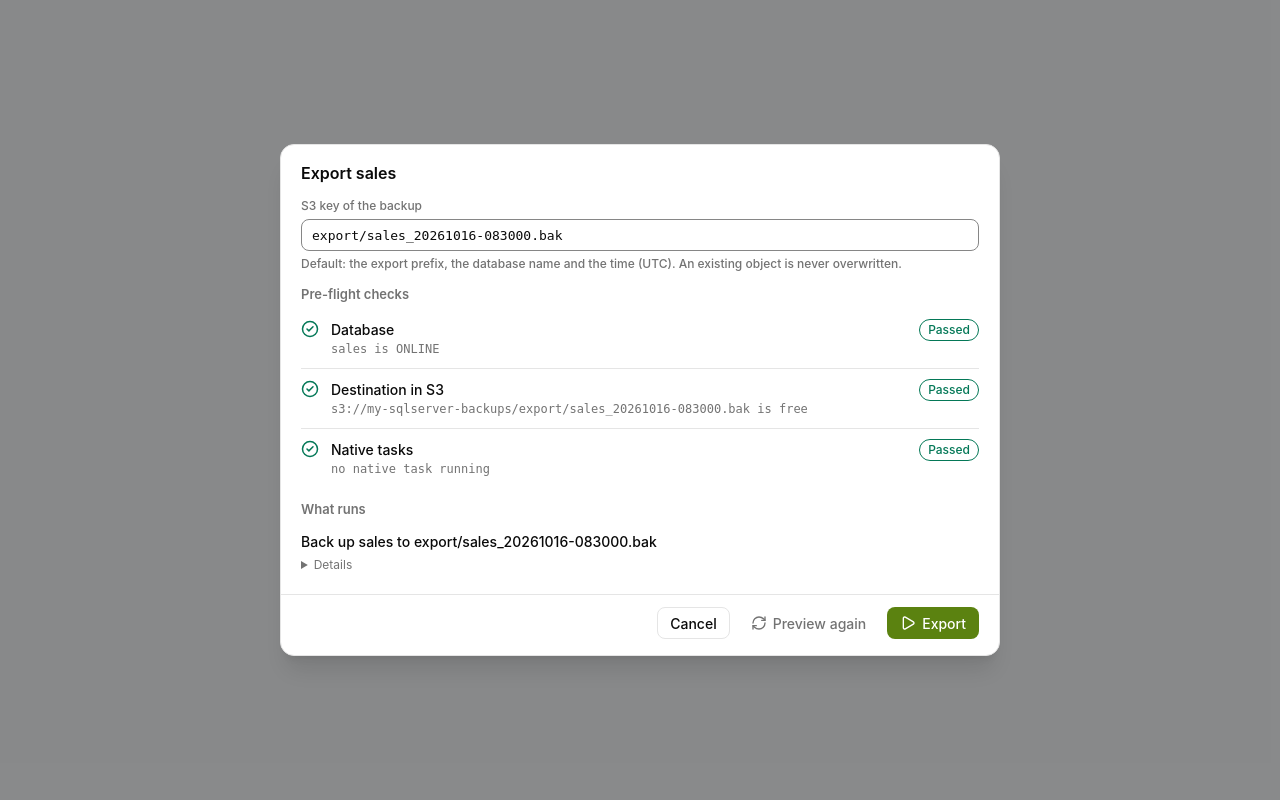
PlanDialog › shows the default export key and sends the previewed one
Check: the field labelled "S3 key of the backup" holds "export/sales_20261016-083000.bak", box [301, 219, 979, 251]
Check: the text "Destination in S3" is shown, box [331, 380, 444, 398]
Click the button "Export" at (933, 623), box [887, 607, 979, 639]
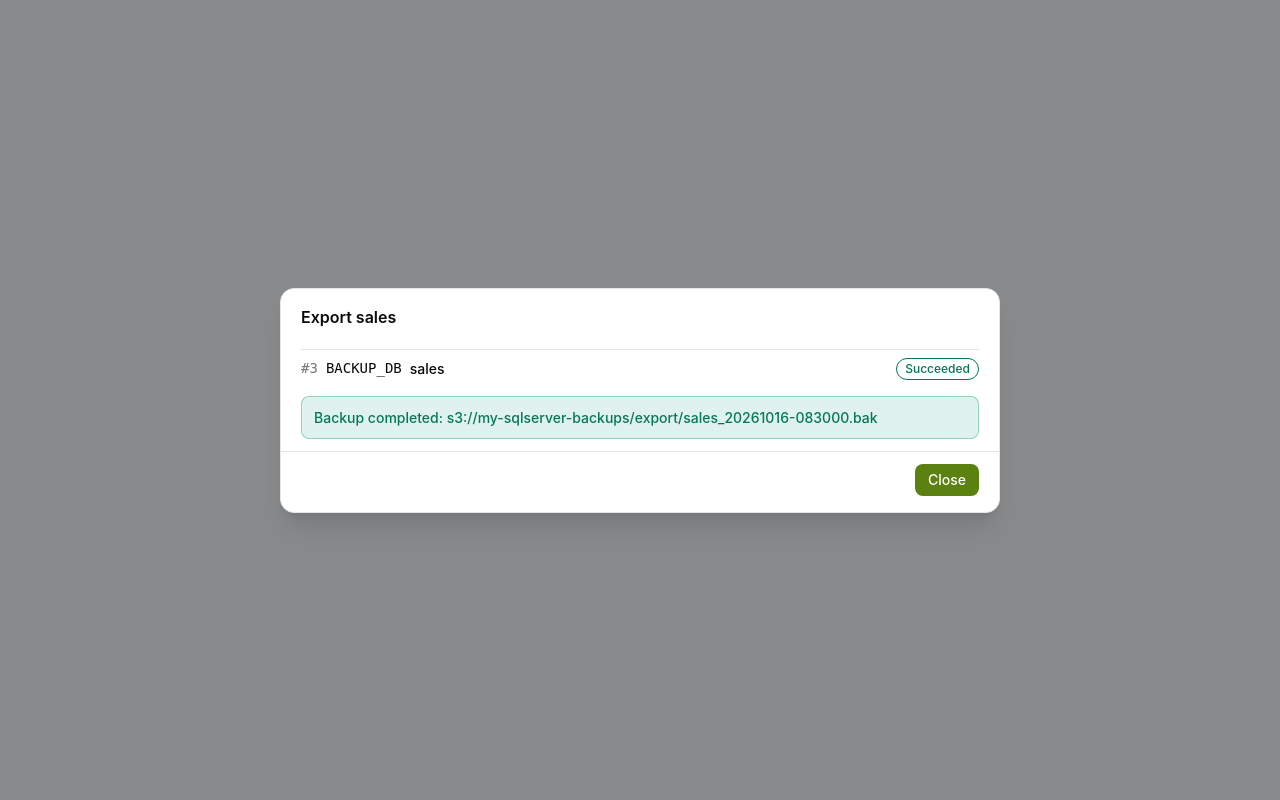
Check: the text "Backup completed: s3://my-sqlserver-backups/export/sales_20261016-083000.bak" is shown, box [314, 406, 966, 428]
